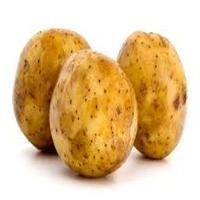biodegradable: (48, 50, 139, 179), (12, 27, 93, 154), (116, 29, 189, 160)
